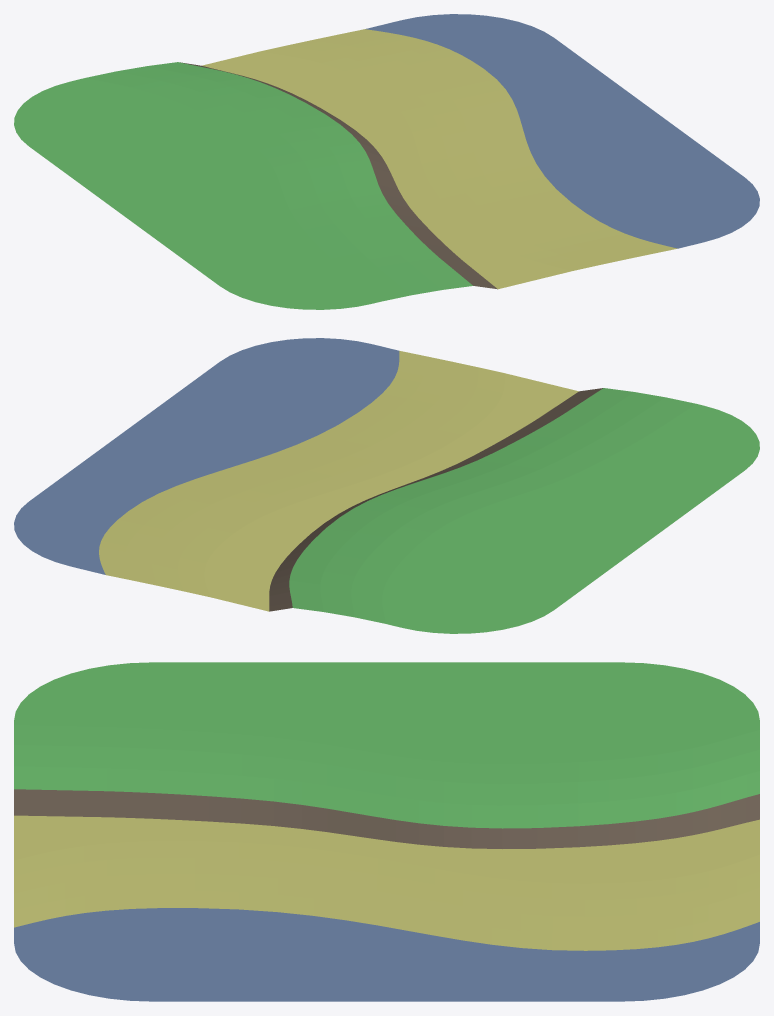
The model's file is EnvBeach.fbx.
The picture shows the model from 3 angles, top to bottom: view 1: azimuth 30°, elevation 25°; view 2: azimuth 150°, elevation 25°; view 3: azimuth 270°, elevation 25°; orthographic projection. The views are drawn at different scales.
Visible parts, largest first — view 1: Ground; view 2: Ground; view 3: Ground.
Boxes of the visible parts, x1,y1,x2,y2 form: Ground: (14,14,759,309); Ground: (14,338,759,633); Ground: (14,662,759,1001).
Bounding box in the file's own units: 0.19 × 0.00672 × 0.19.
